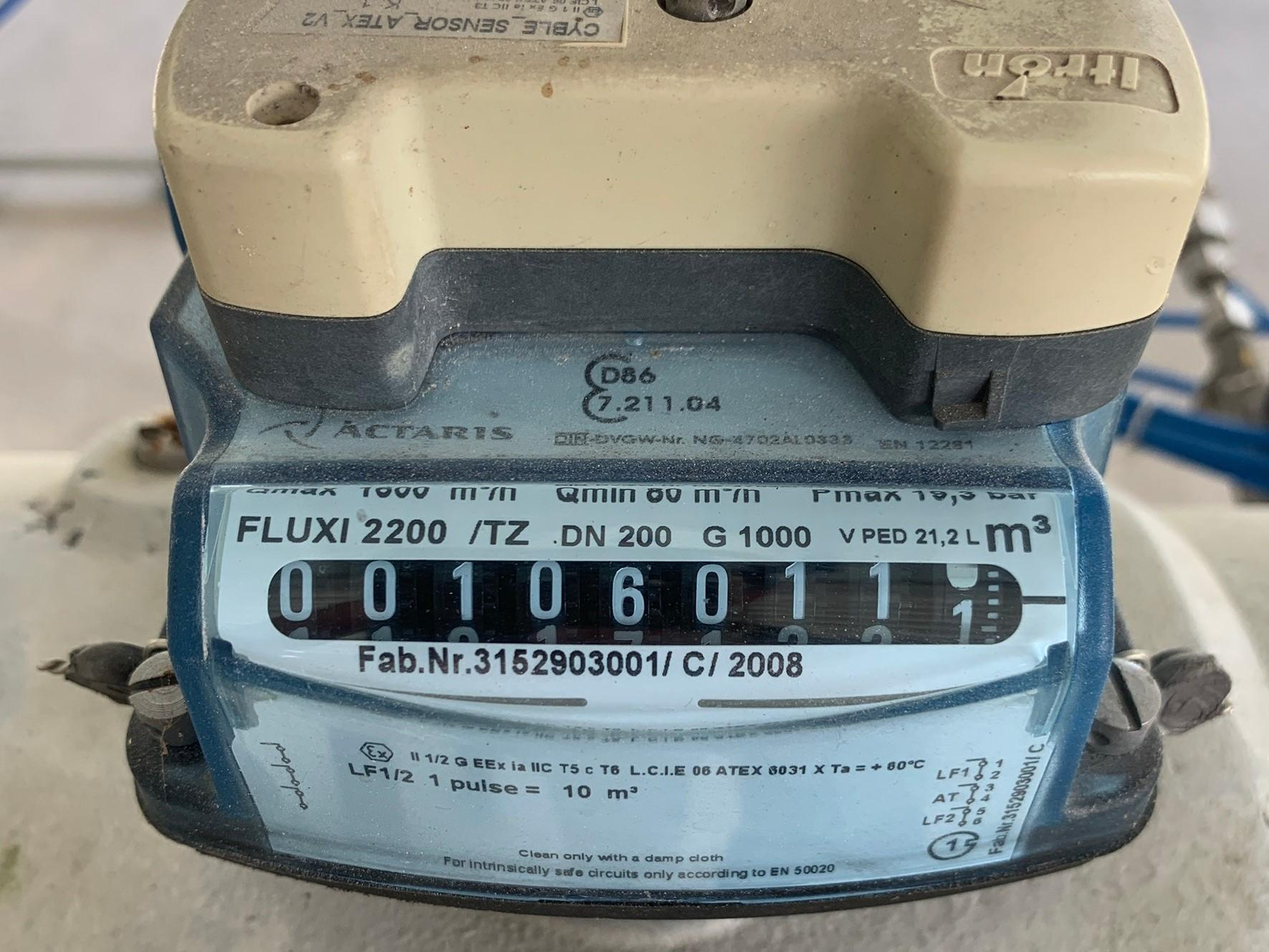analog_dial: (260, 546, 1067, 656)
